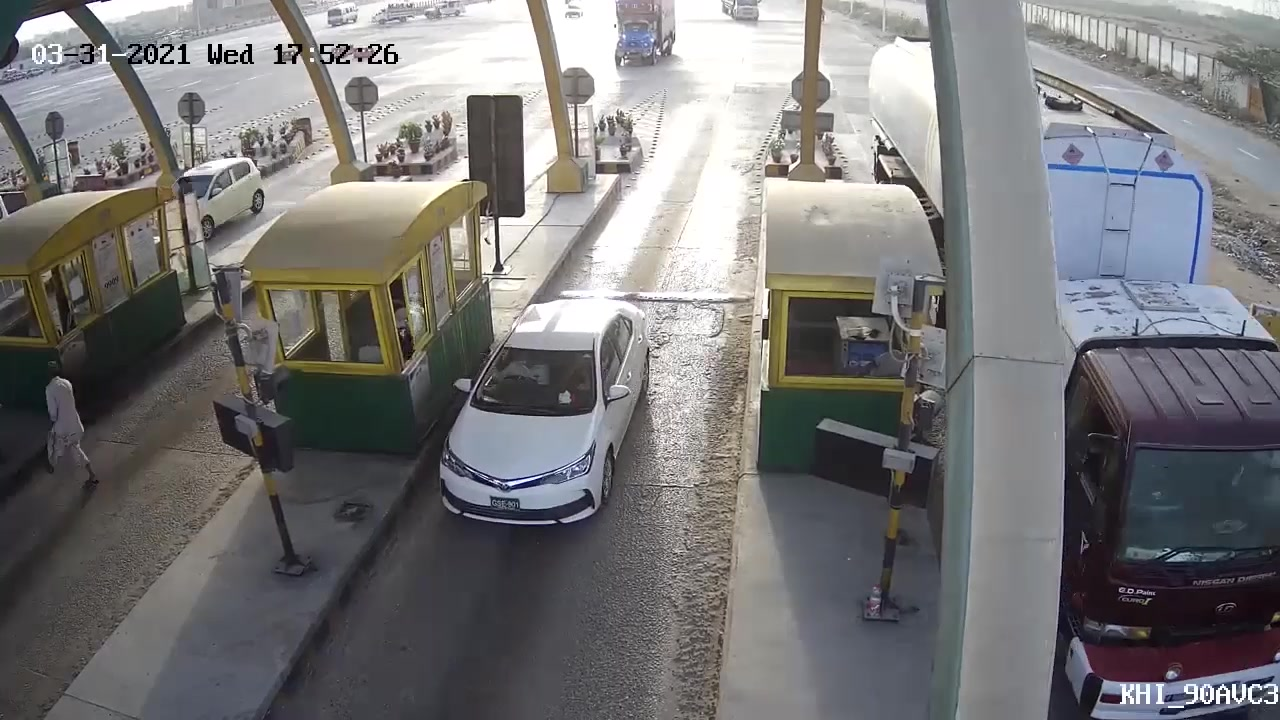F1: (411, 296, 652, 559)
